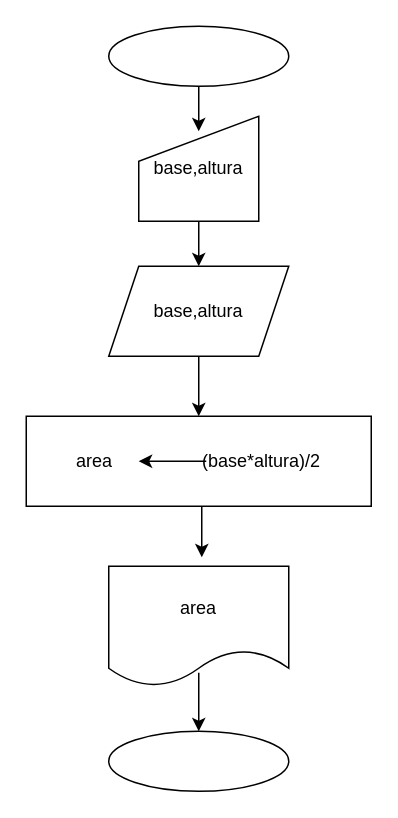
Some shapes in this 398 by 818 pixel diagram are drawn without their labels. The centre of each missing label's shape, as x and y in pixels:
Fin: the point at 198,760
Inicio: the point at 198,55
